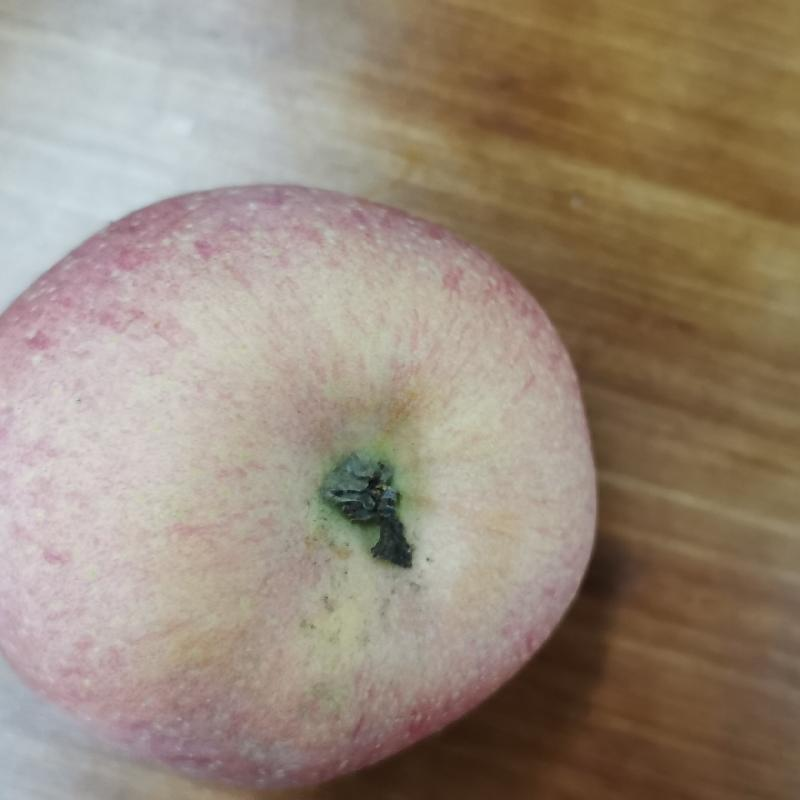apples: (7, 178, 601, 788)
